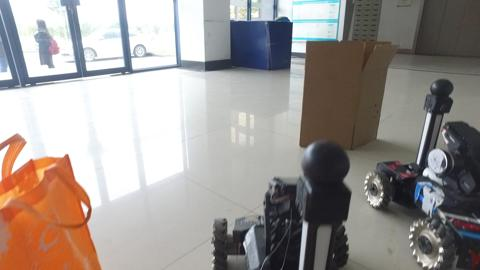box: (302, 35, 389, 152)
chariot: (360, 77, 478, 267)
